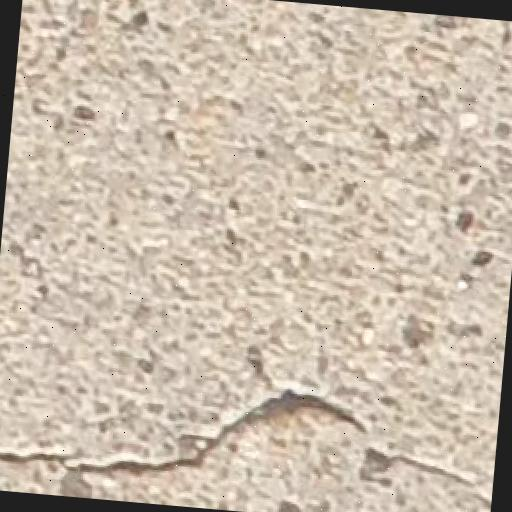spalling: (0, 374, 480, 499)
